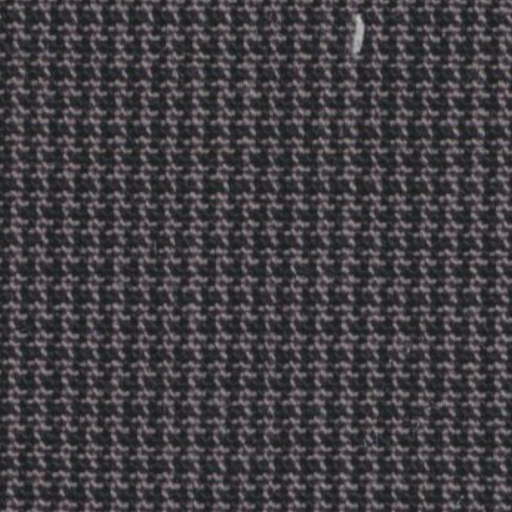DuanSha: (337, 14, 381, 63)
